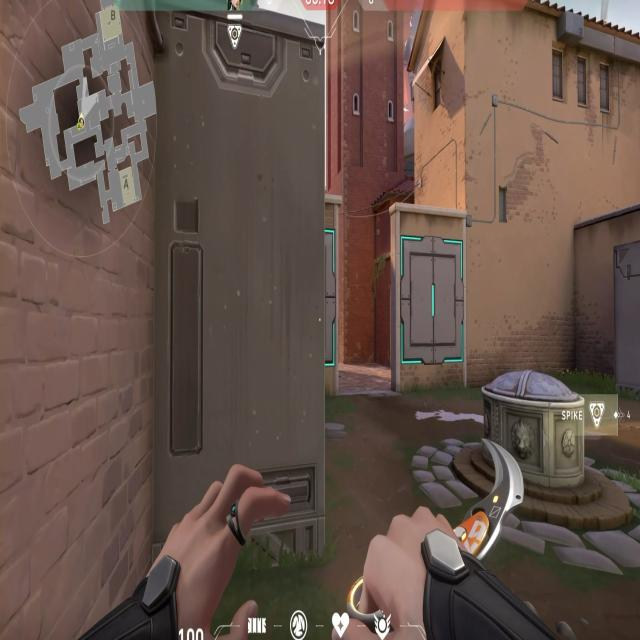Mid_Wall: (387, 198, 474, 390)
